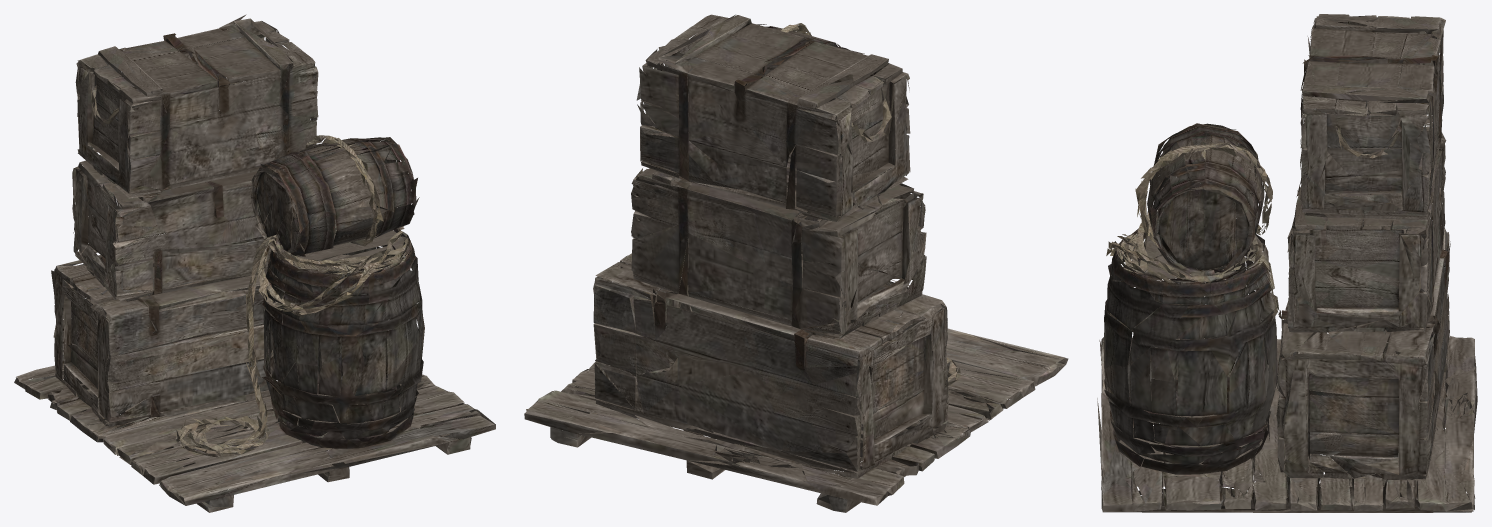
The model's file is crates.glb.
3 views of the same model, side by side, from view 1: azimuth 30°, elevation 25°; view 2: azimuth 150°, elevation 25°; view 3: azimuth 270°, elevation 25° (orthographic). The views are drawn at different scales.
Visible parts, largest first — view 1: Mesh_0; view 2: Mesh_0; view 3: Mesh_0.
Part boxes in pixels (left/top/right/bottom): Mesh_0: left=14, top=14, right=495, bottom=512; Mesh_0: left=524, top=14, right=1068, bottom=512; Mesh_0: left=1097, top=14, right=1477, bottom=512.
Size of the model in its own units: 1.8 by 1.89 by 1.71.
Materials: 1 (1 with a texture image).
